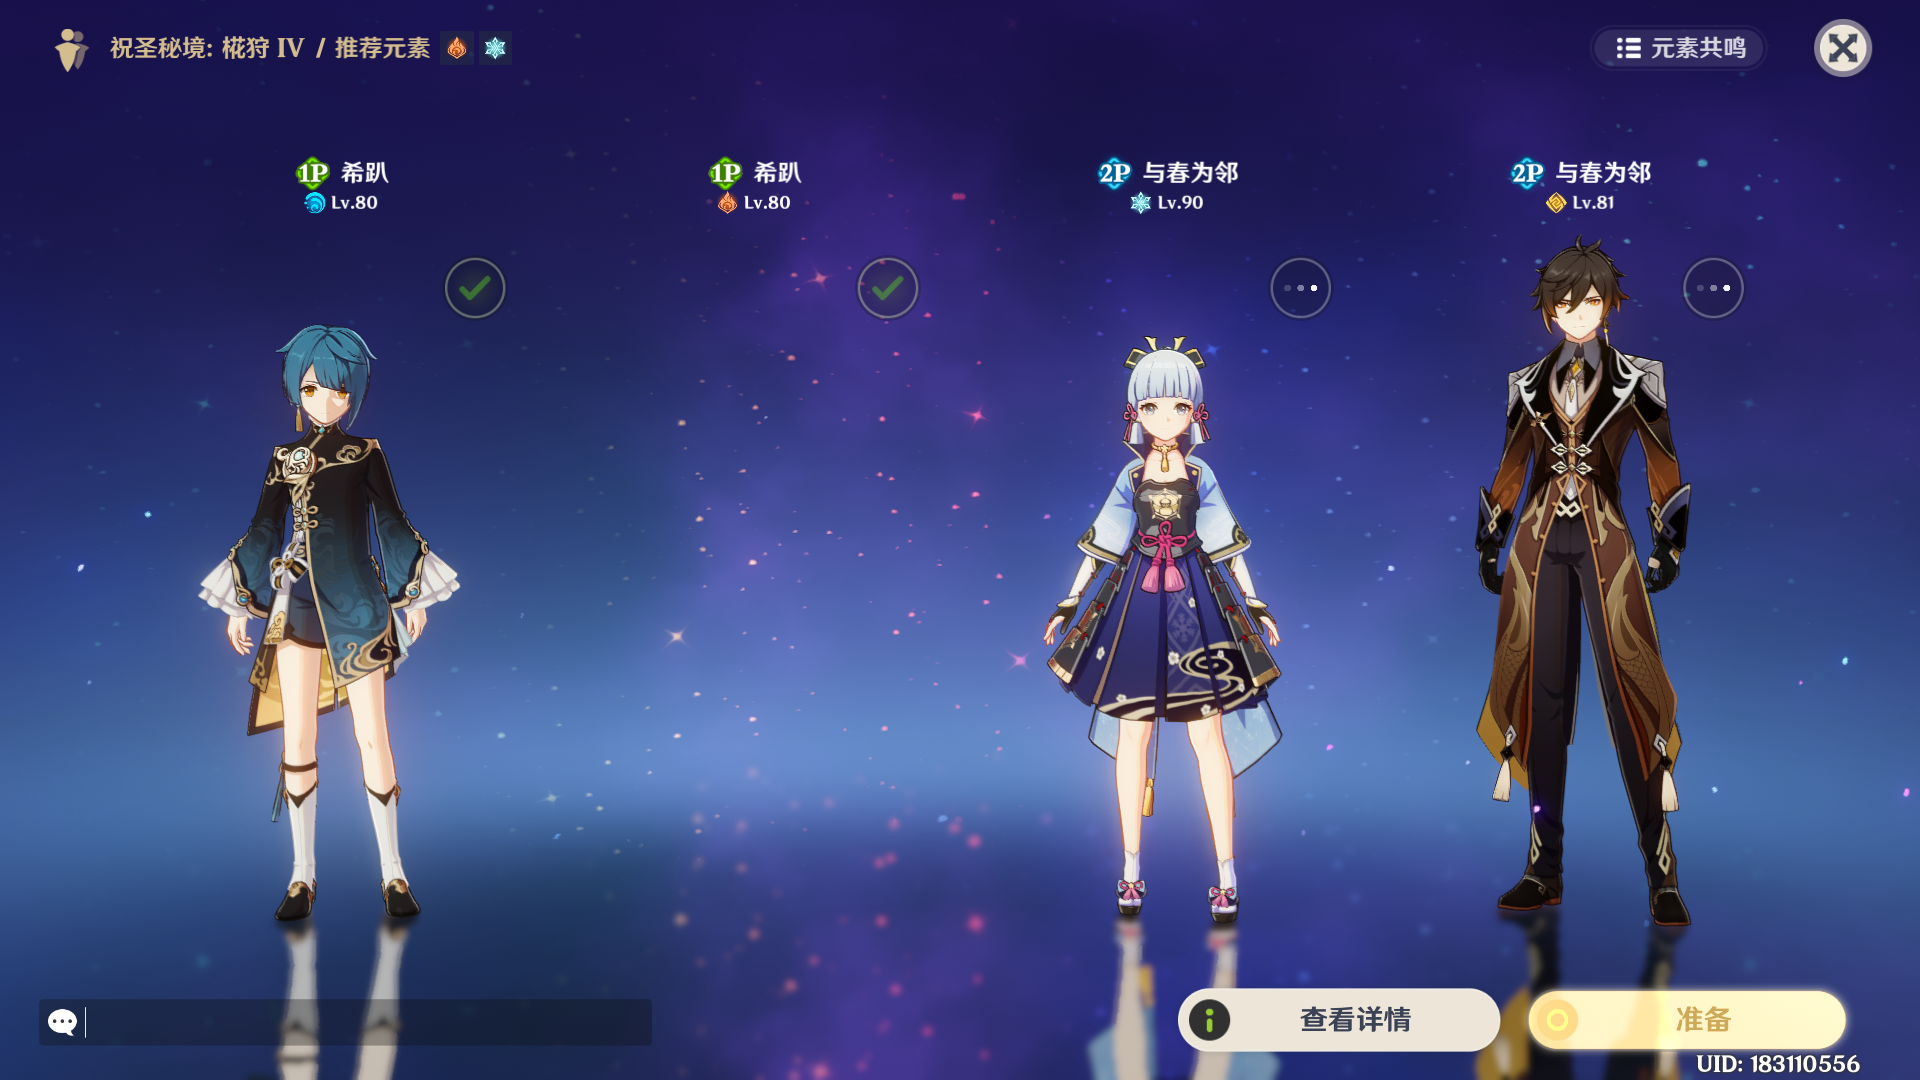character: (1425, 232, 1782, 967), (993, 316, 1335, 967), (161, 305, 483, 975)
